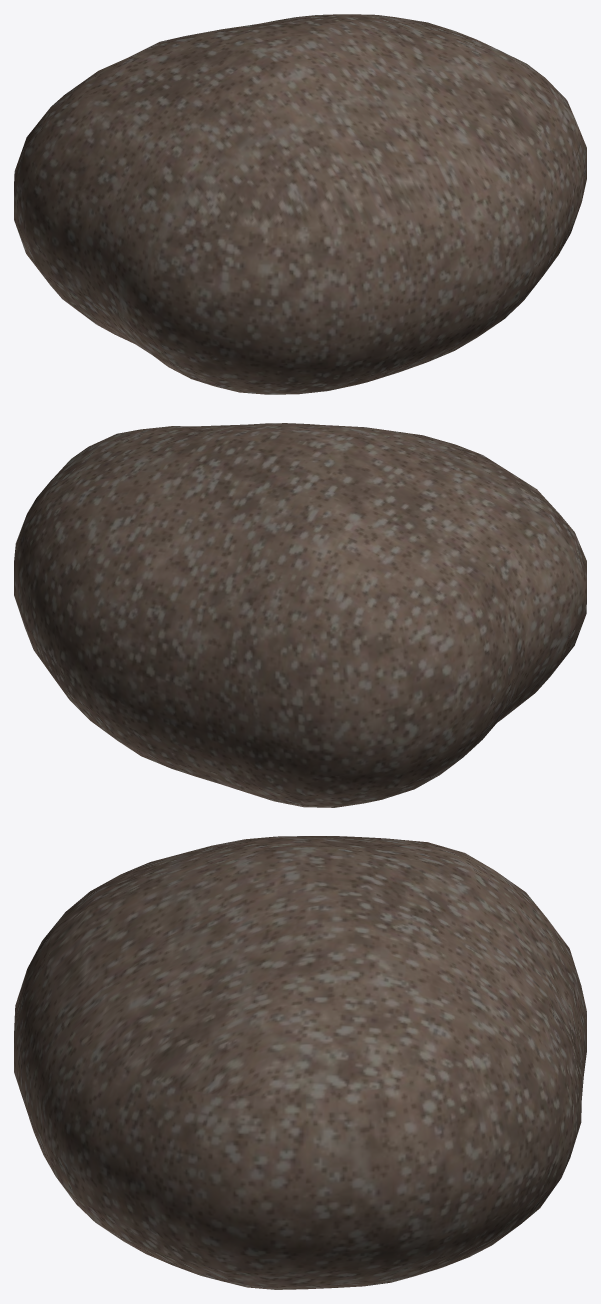
The model's file is plunge_boulder_01.glb.
The picture shows the model from 3 angles, top to bottom: view 1: azimuth 30°, elevation 25°; view 2: azimuth 150°, elevation 25°; view 3: azimuth 270°, elevation 25°; orthographic projection. The views are drawn at different scales.
Parts seen in each view (by area): view 1: plunge_boulder_01; view 2: plunge_boulder_01; view 3: plunge_boulder_01.
Boxes of the visible parts, x1=… form: plunge_boulder_01: x1=14, y1=14, x2=586, y2=394; plunge_boulder_01: x1=14, y1=423, x2=586, y2=807; plunge_boulder_01: x1=14, y1=836, x2=586, y2=1289.
Size of the model in its own units: 0.0763 by 0.0478 by 0.0662.
1 material, 1 textured.
